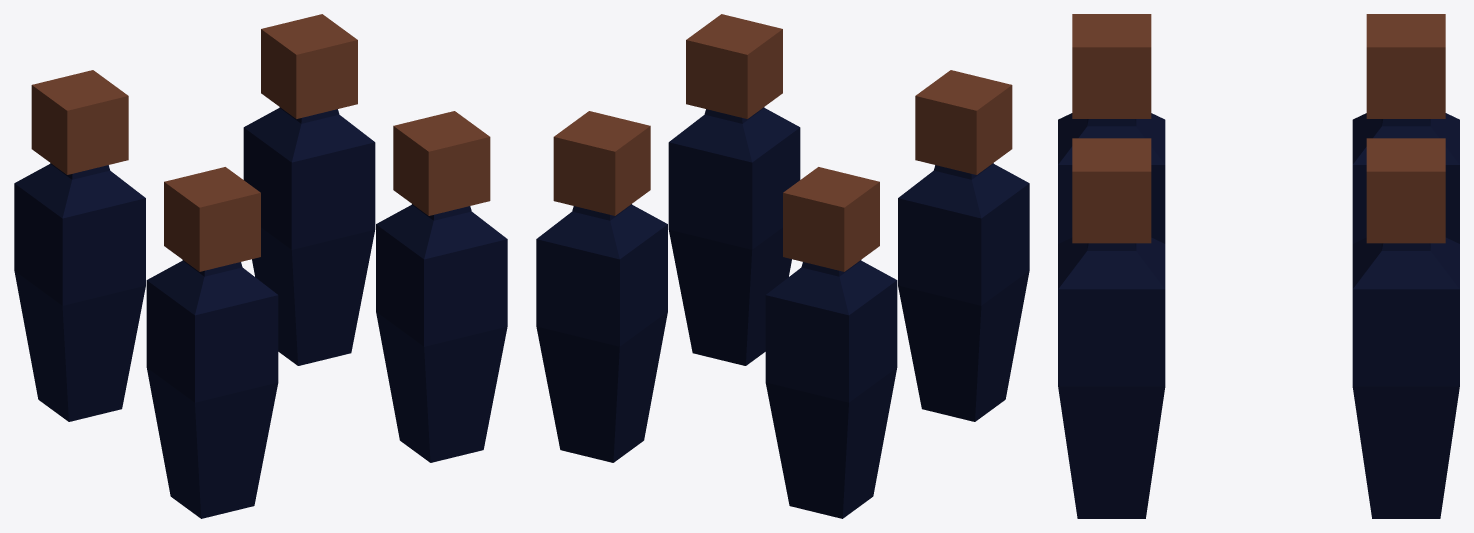
3 renders of one model, left to right at view 1: azimuth 30°, elevation 25°; view 2: azimuth 150°, elevation 25°; view 3: azimuth 270°, elevation 25°, orthographic. The views are drawn at different scales.
Parts seen in each view (by area): view 1: p1.002; view 2: p1.002; view 3: p1.002.
Part boxes in pixels (bbox=[...]): p1.002: bbox=[14, 14, 507, 518]; p1.002: bbox=[536, 14, 1029, 518]; p1.002: bbox=[1058, 14, 1459, 518].
Size of the model in its own units: 54.56 by 52.36 by 54.56.
